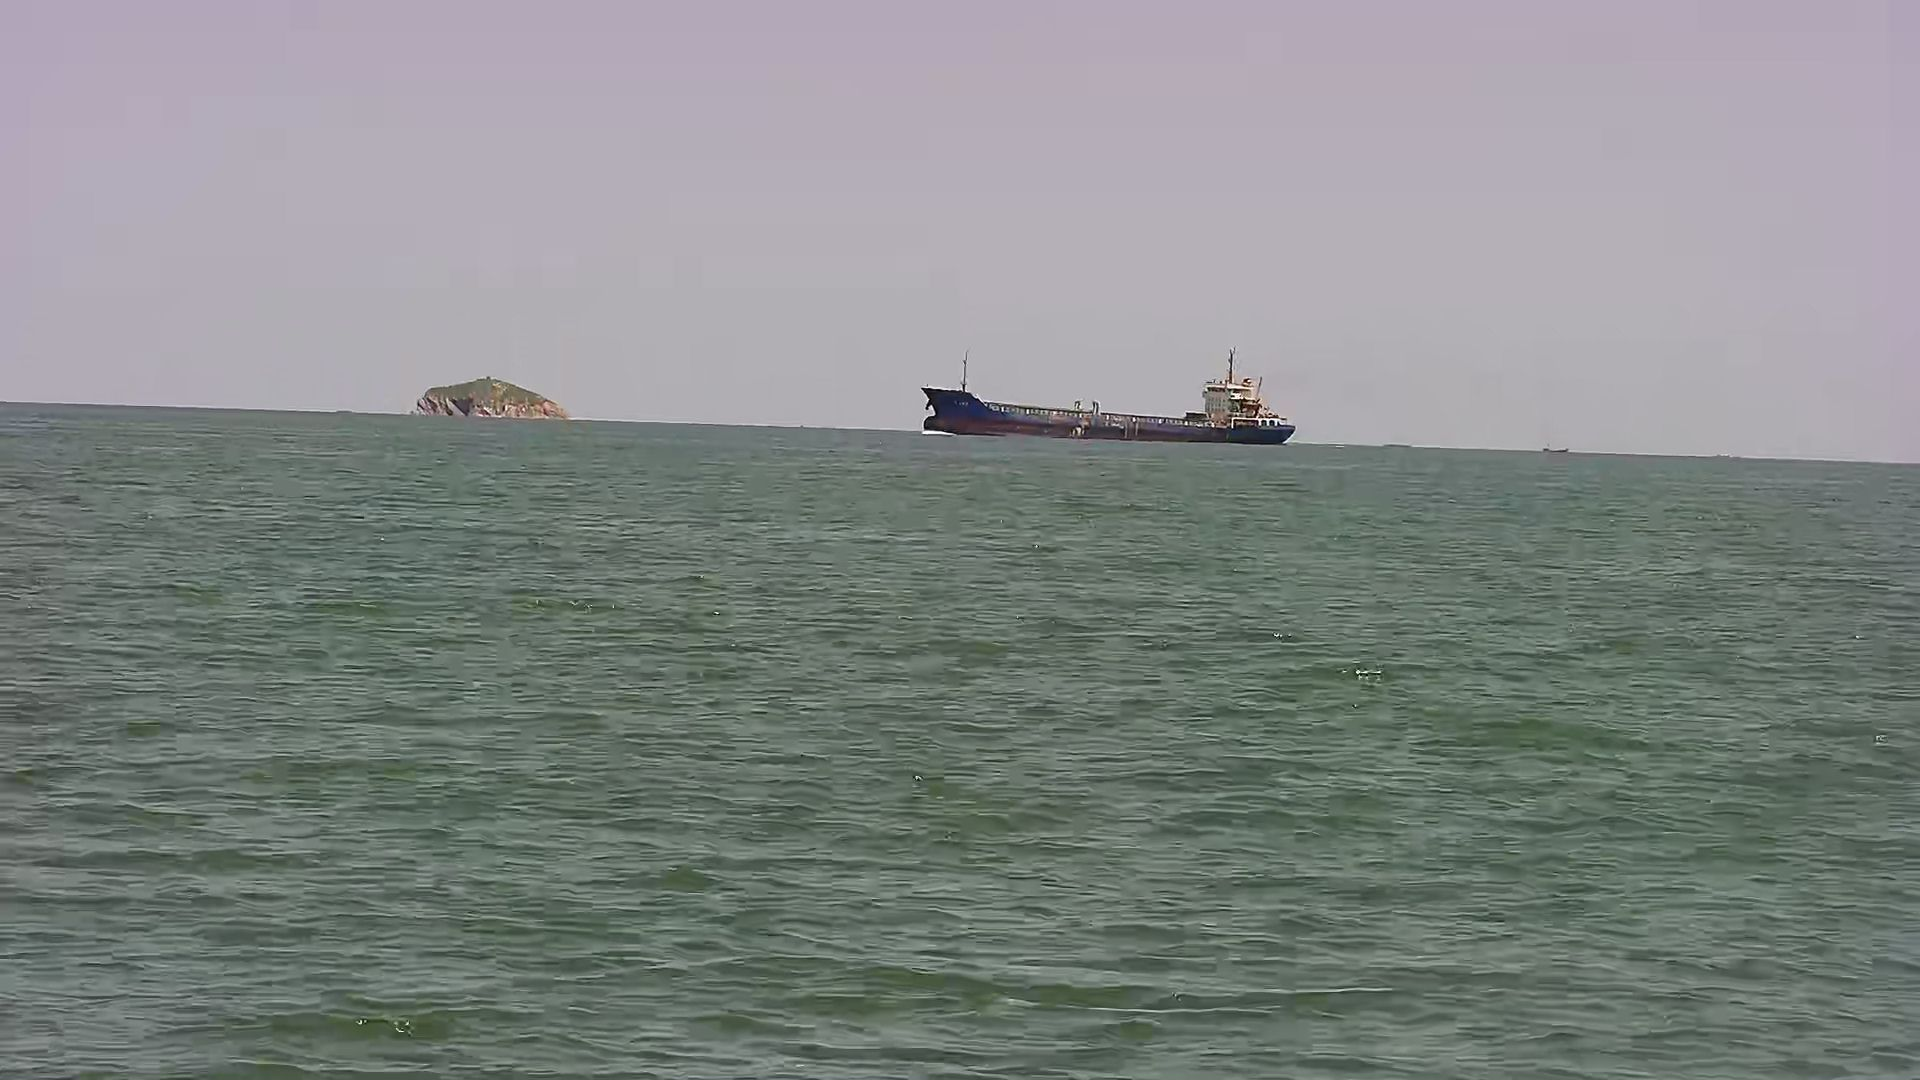rock: (404, 367, 583, 419)
ship: (914, 357, 1313, 460)
